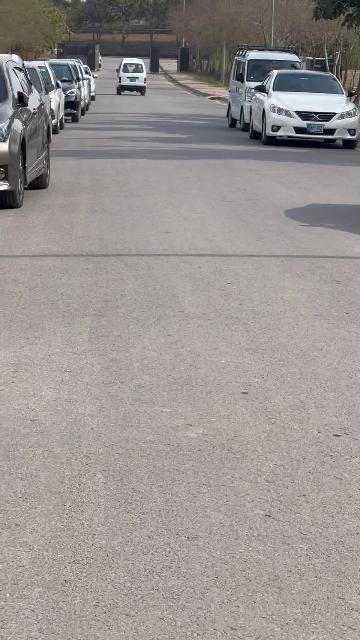plate: (307, 124, 324, 133)
